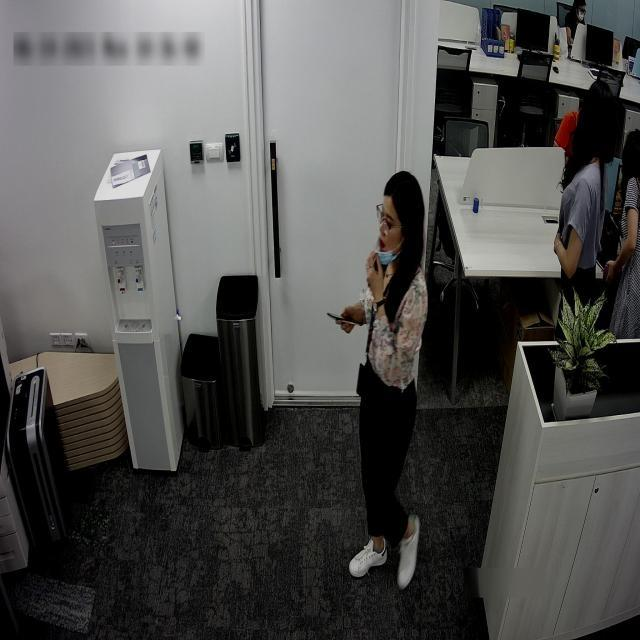hairnet: (373, 216, 399, 258)
